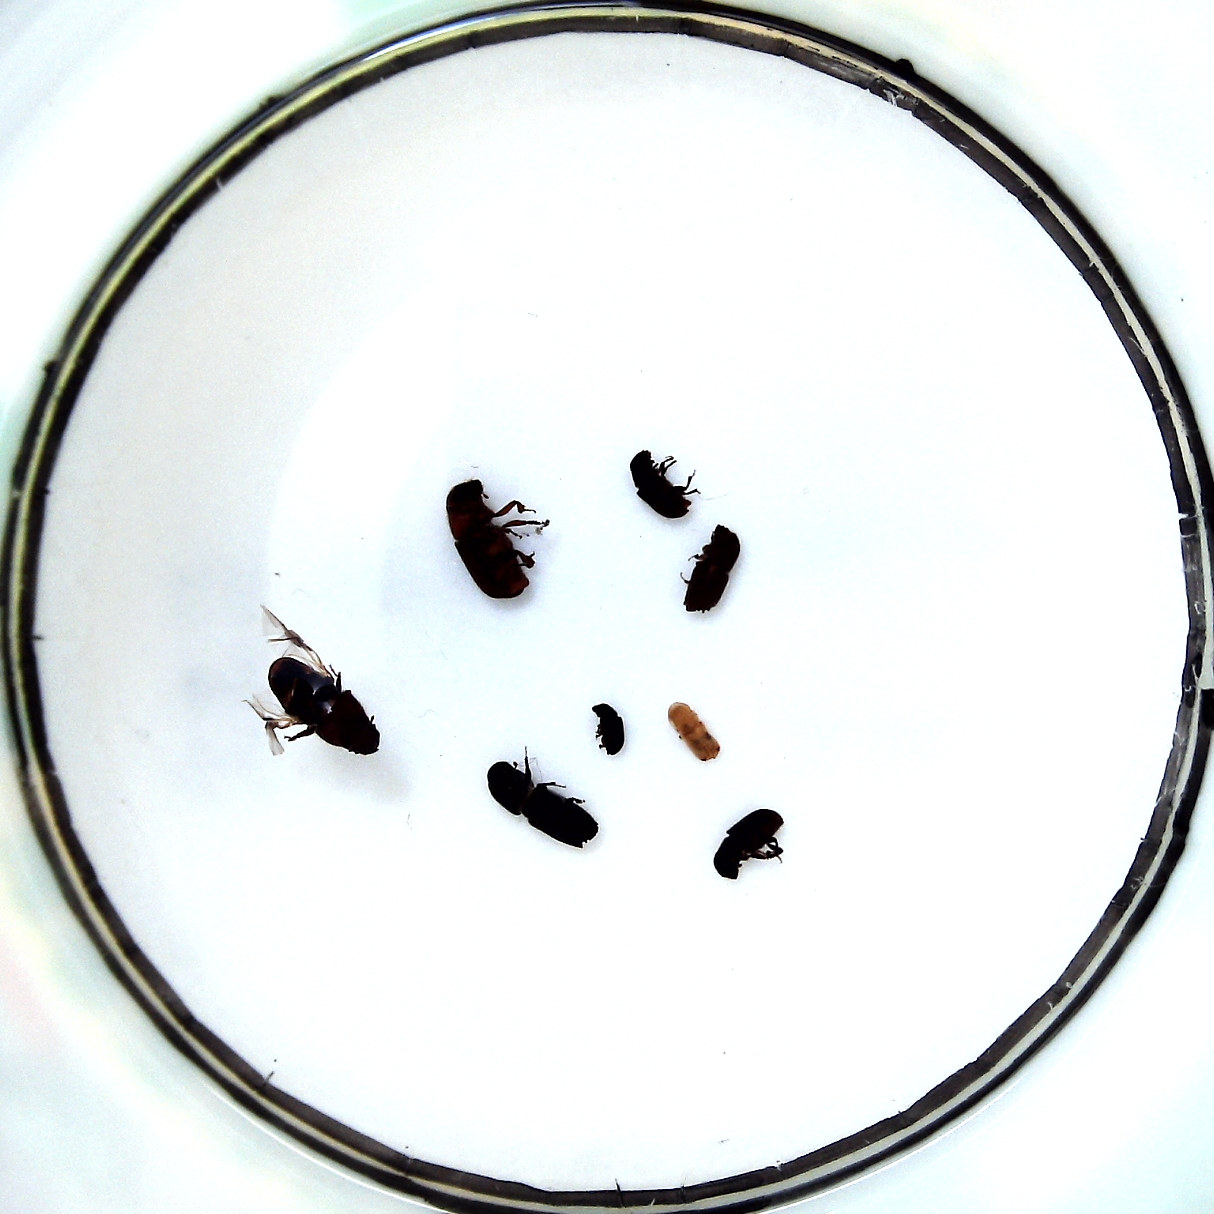Boerner: (486, 759, 601, 848)
Leconte: (267, 654, 379, 760), (447, 478, 530, 603)
acuminatus: (593, 701, 625, 755)
armandi: (712, 808, 786, 880), (630, 444, 690, 520)
coleoptera: (665, 700, 722, 766)
linnaeus: (681, 523, 739, 615)
